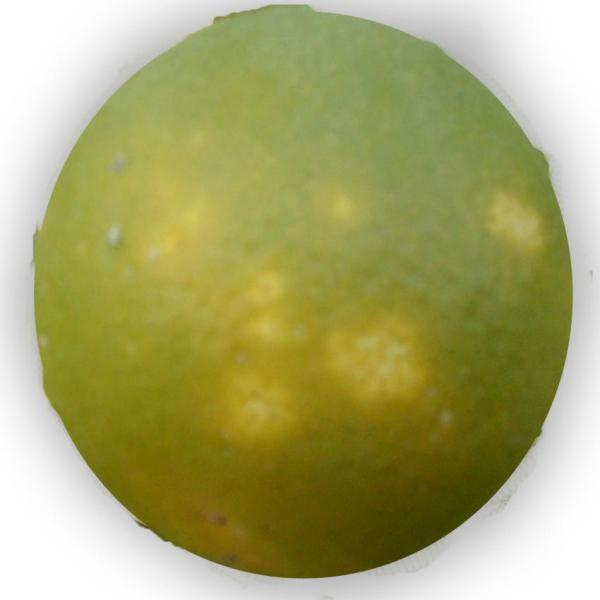Greening: (29, 0, 582, 585)
